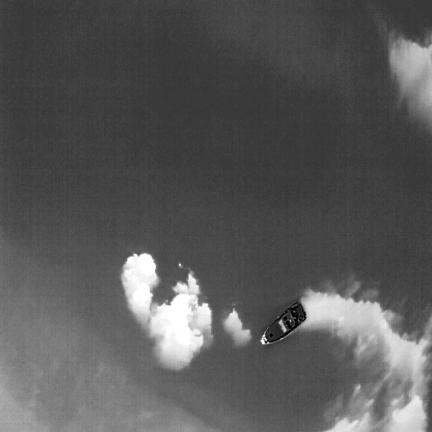flukeprints: (121, 253, 212, 370), (223, 309, 250, 346)
